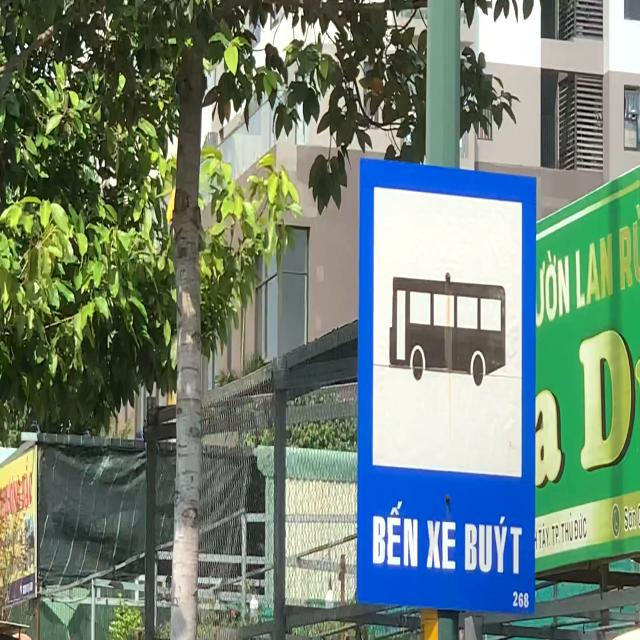R.434: (353, 152, 540, 622)
